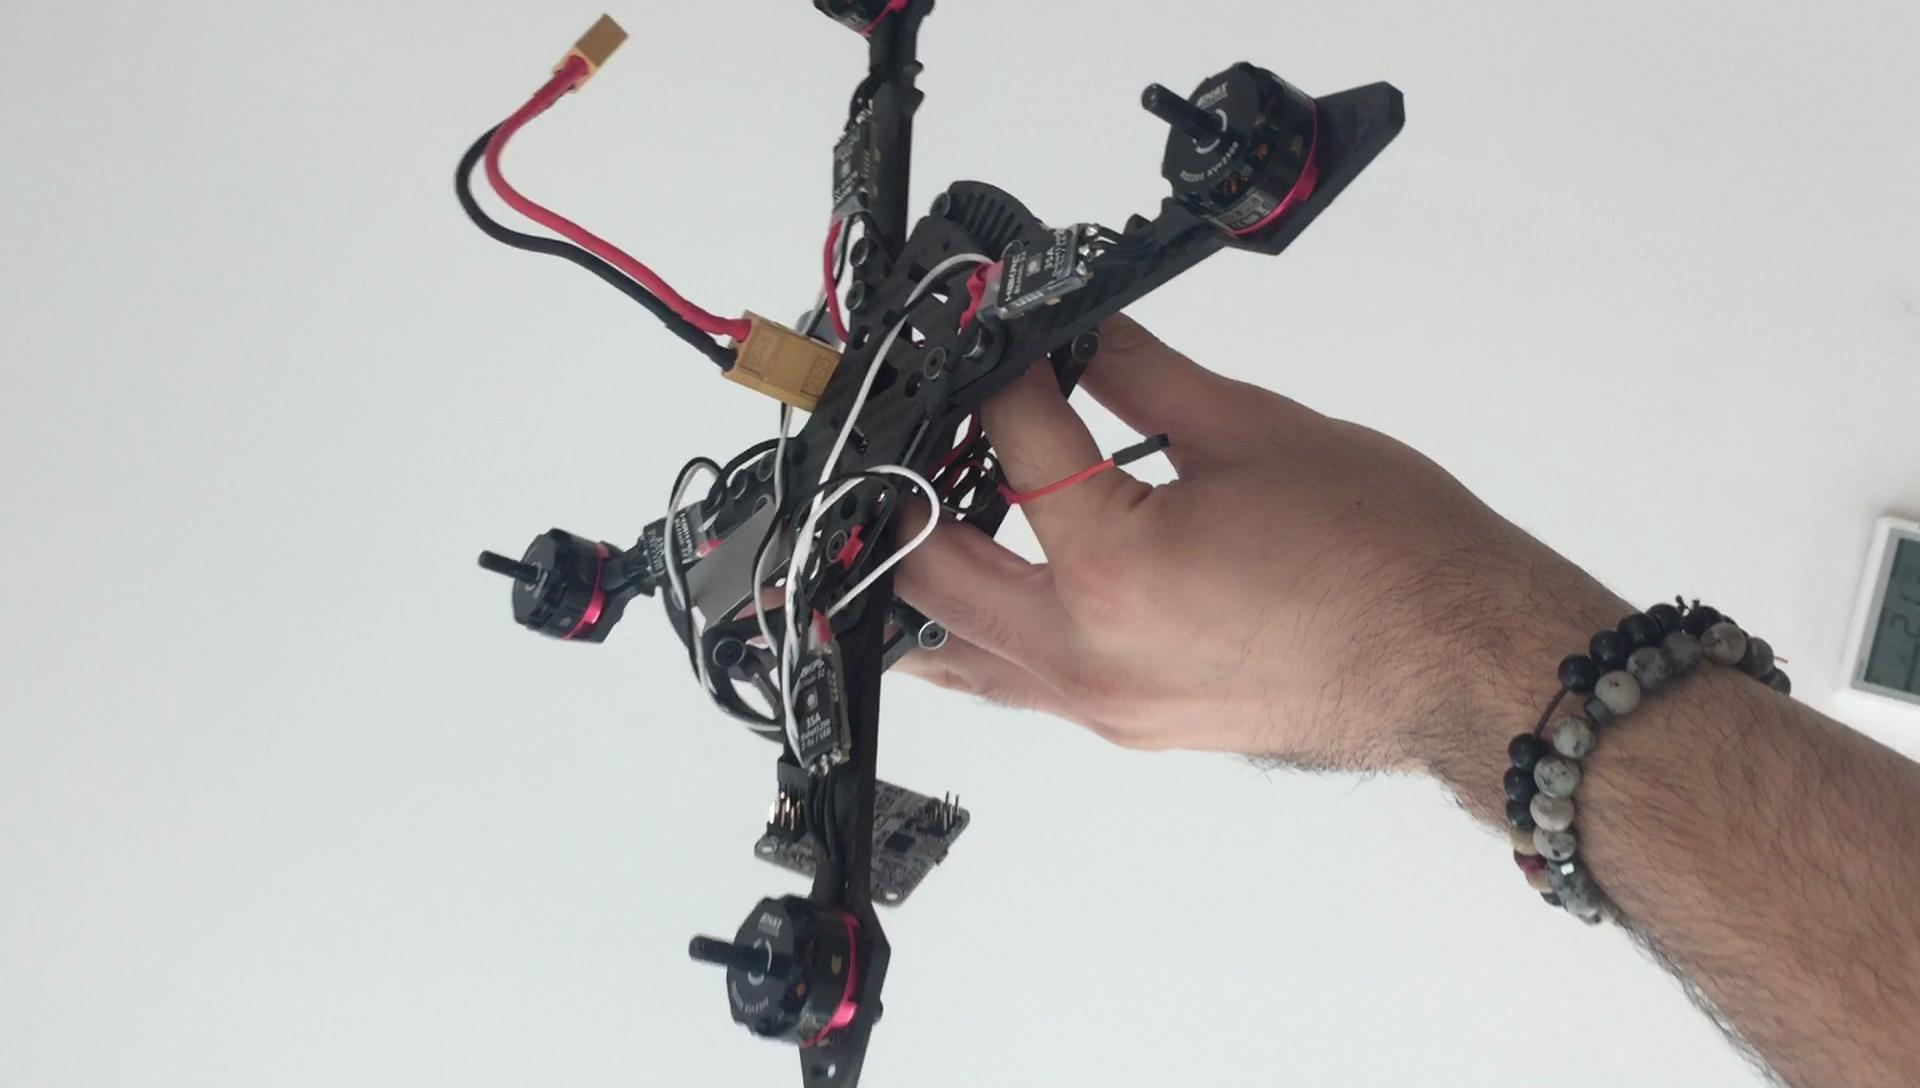drone: (471, 11, 1423, 1081)
